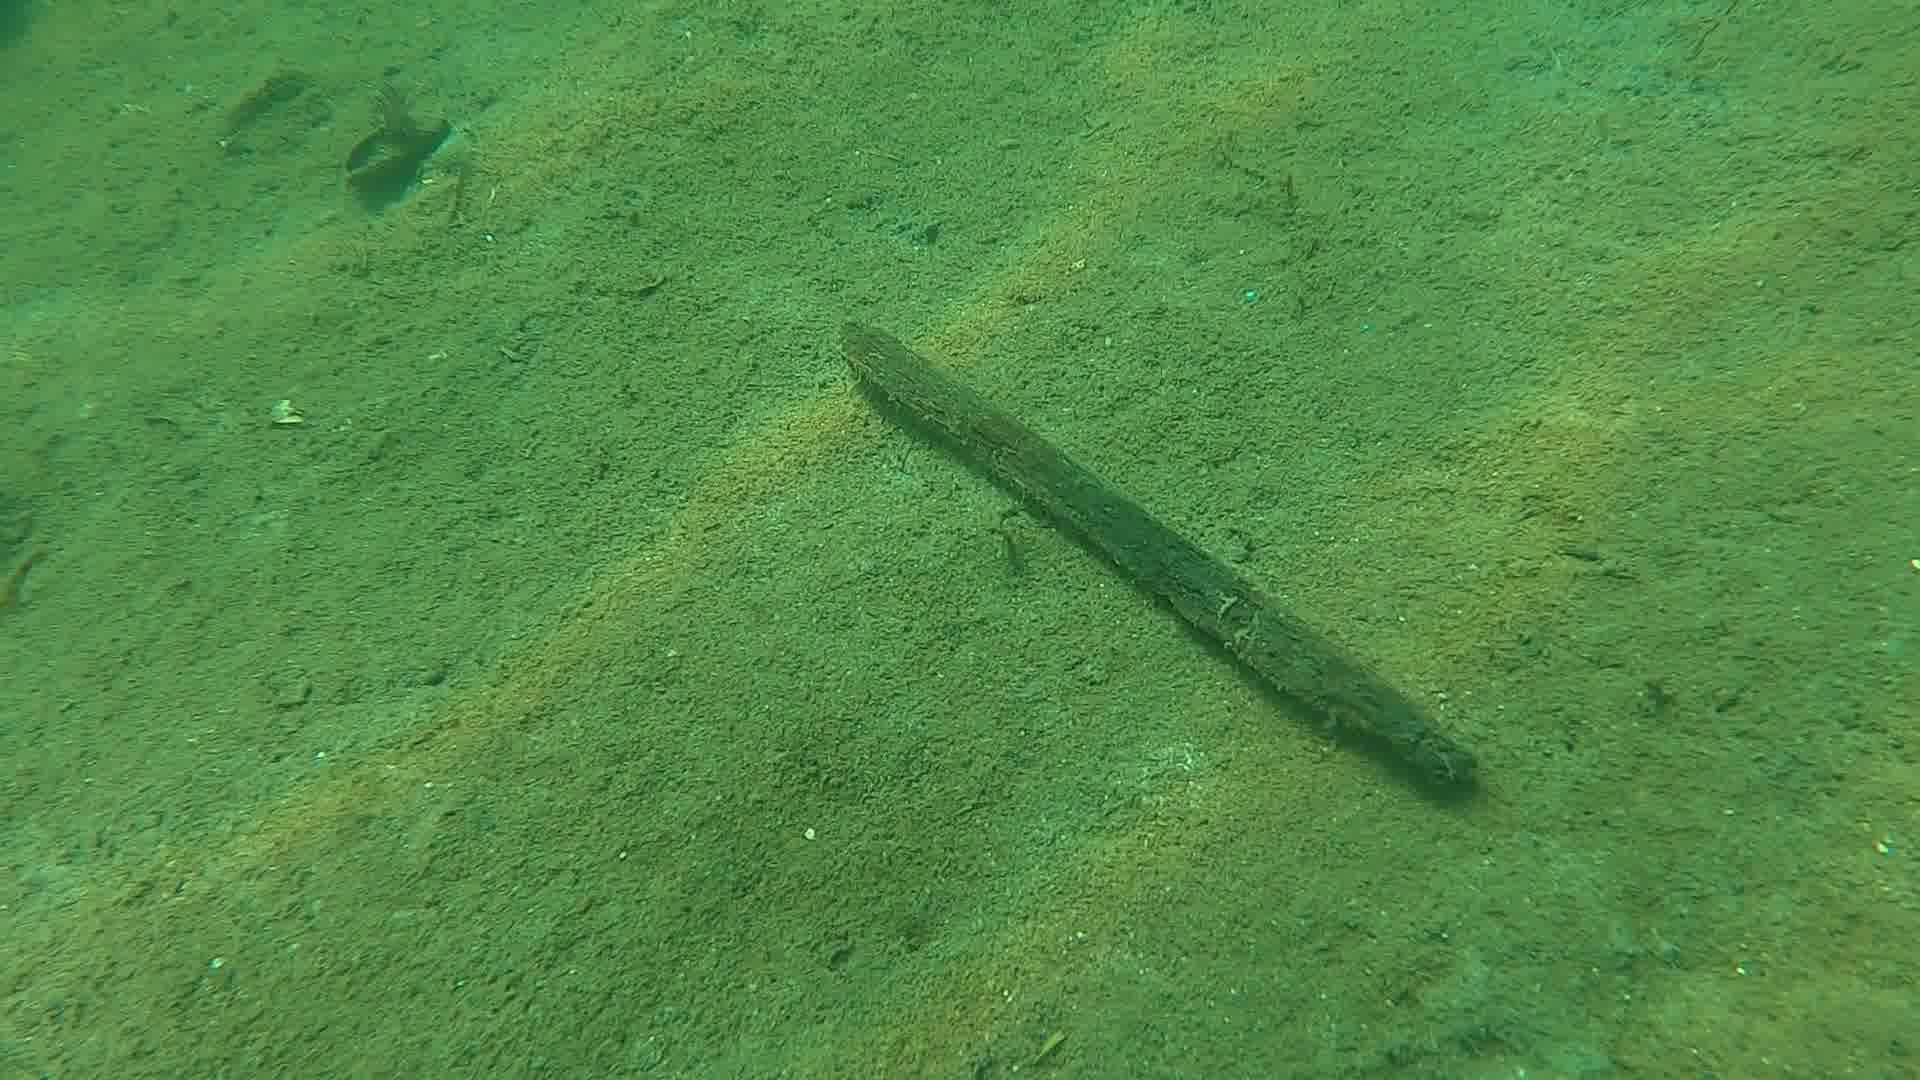wood: (833, 318, 1481, 803)
